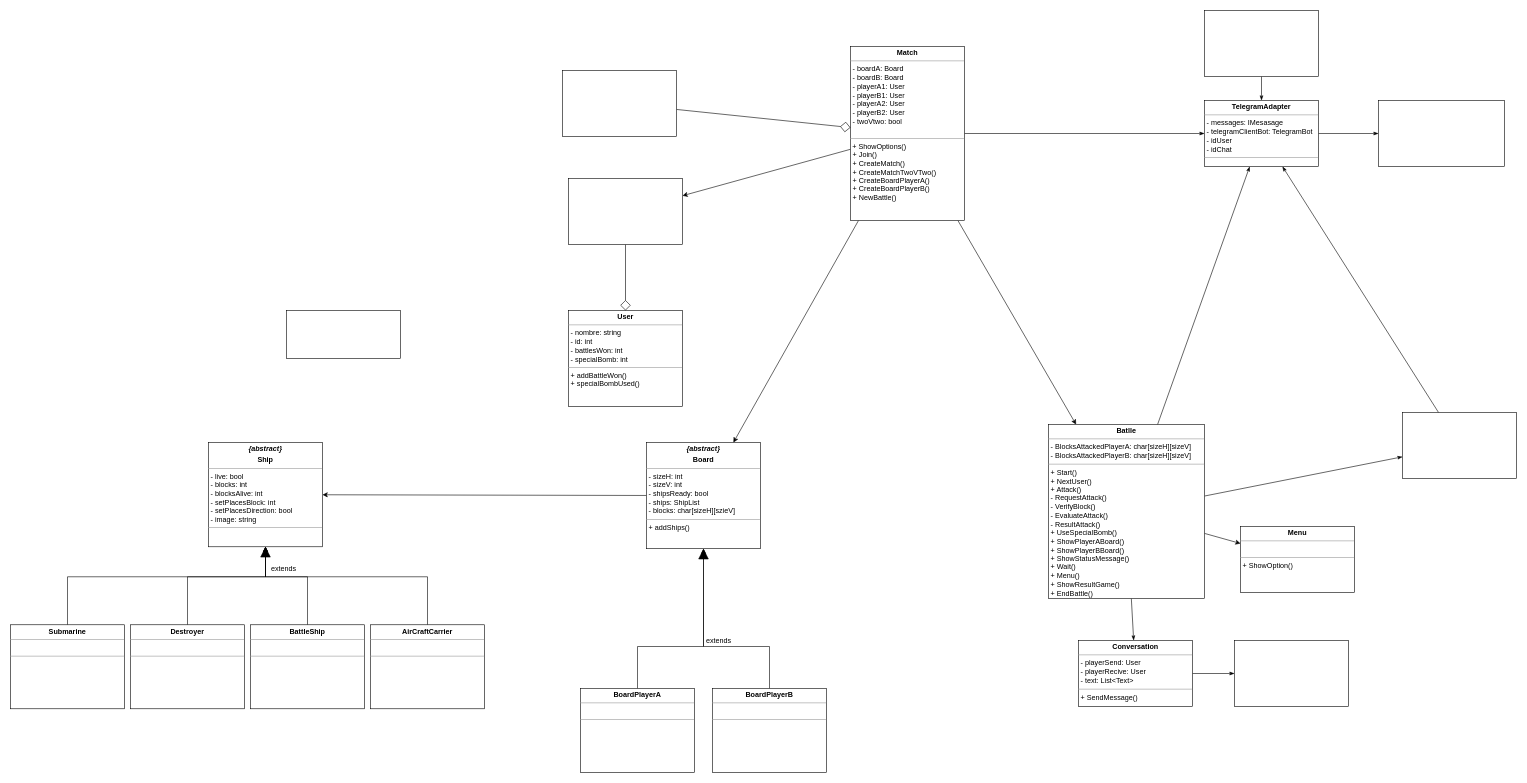
This 1527x783 diagram has some shape labels left out. The centre of each missing label's shape, as x and y in pixels:
"CombinedImage + MergeMultipleImage()" belongs at (x=1459, y=445).
"IMessage - message: string - idChat: long - idUser: string" belongs at (x=1261, y=43).
"MatchList - activeMatches: List<Match> + addMatch" belongs at (x=619, y=103).
"Singleton" belongs at (x=343, y=334).
"TelegramBot - botToken: string - telegramBot: TelegramBotInstance" belongs at (x=1441, y=133).
"Text - text: string - user: User" belongs at (x=1291, y=673).
"UserList - players: List<User> + addUsers(User)" belongs at (x=625, y=211).
